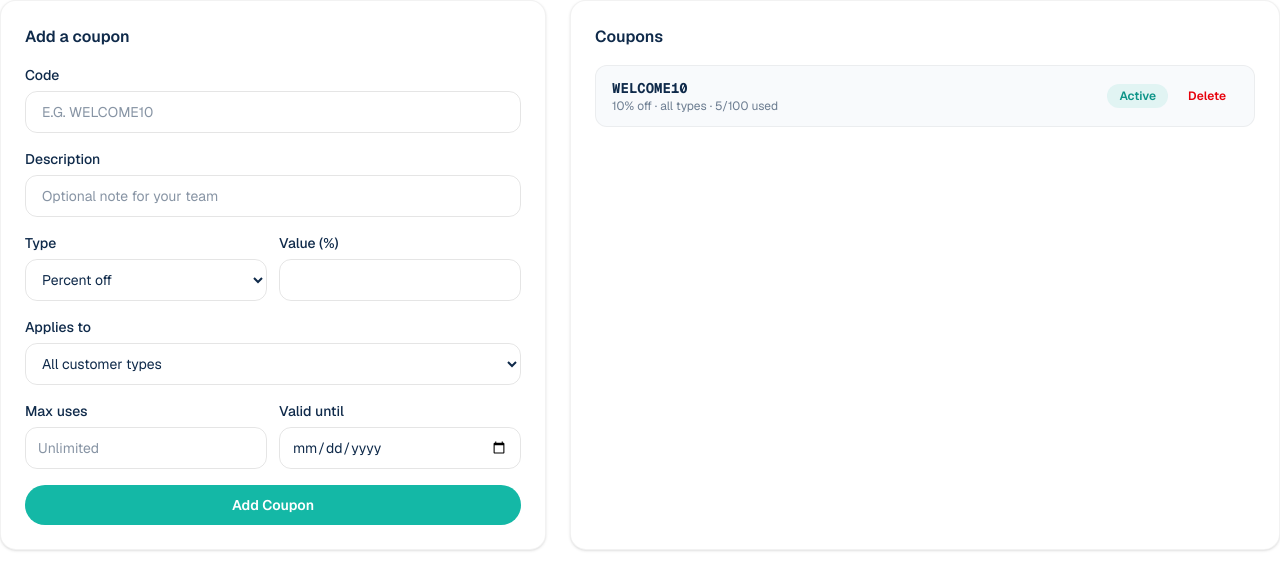
Test case: CouponManager › toggles a coupon's active state
Expected: the text "WELCOME10" is shown, [612,79,688,97]
Click the button "Active".
click(1138, 96)  # box [1107,84,1168,108]
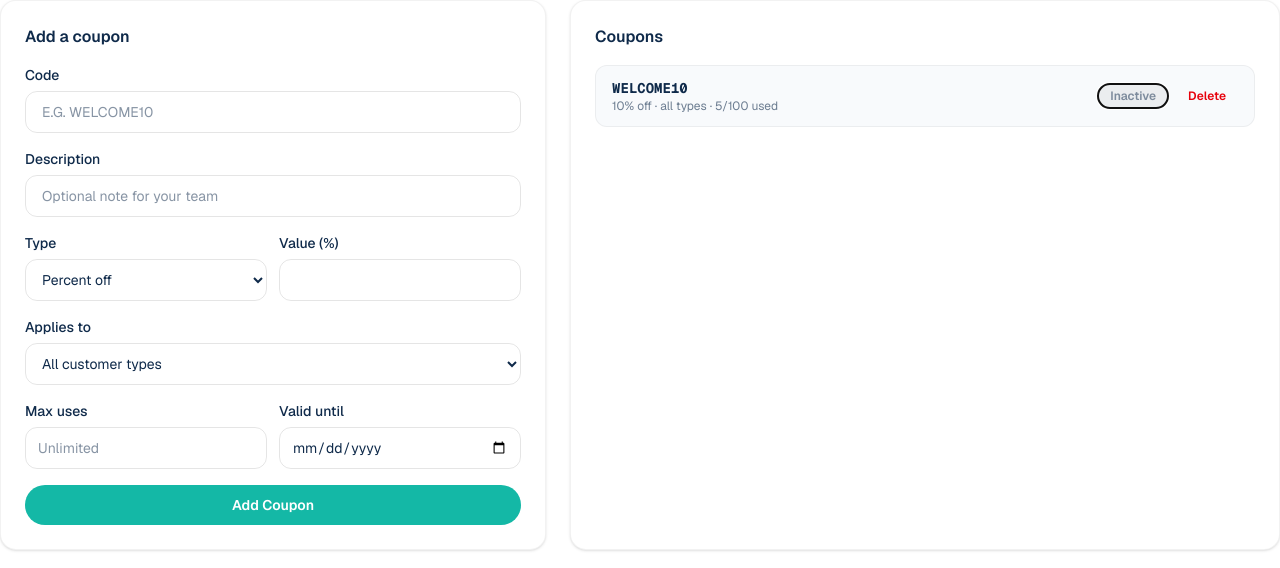
Expected: the button "Inactive" is shown, [1098,84,1168,108]
